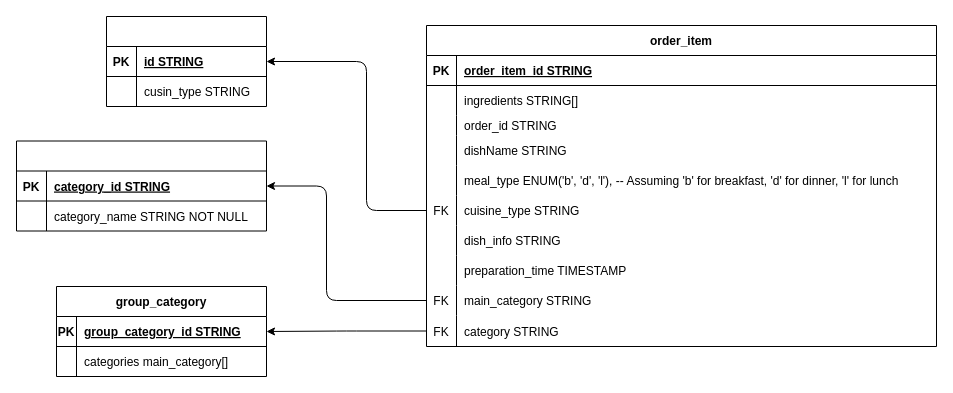
Some shapes in this 953 by 393 pixel diagram are drawn without their labels. Here are the shapes that lost their labels. From the top down, the box of each, then its label:
(106, 16, 266, 106): cuisine_type
(16, 140, 266, 231): main_category
